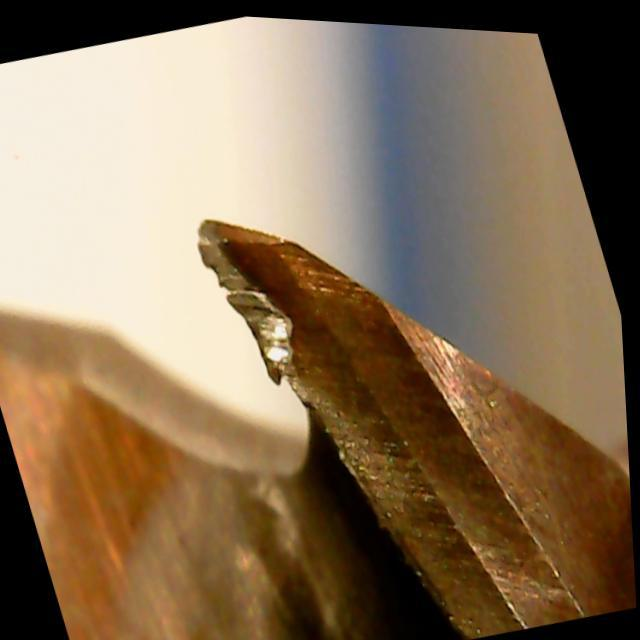Tool-wear-class-2: (174, 170, 421, 474)
